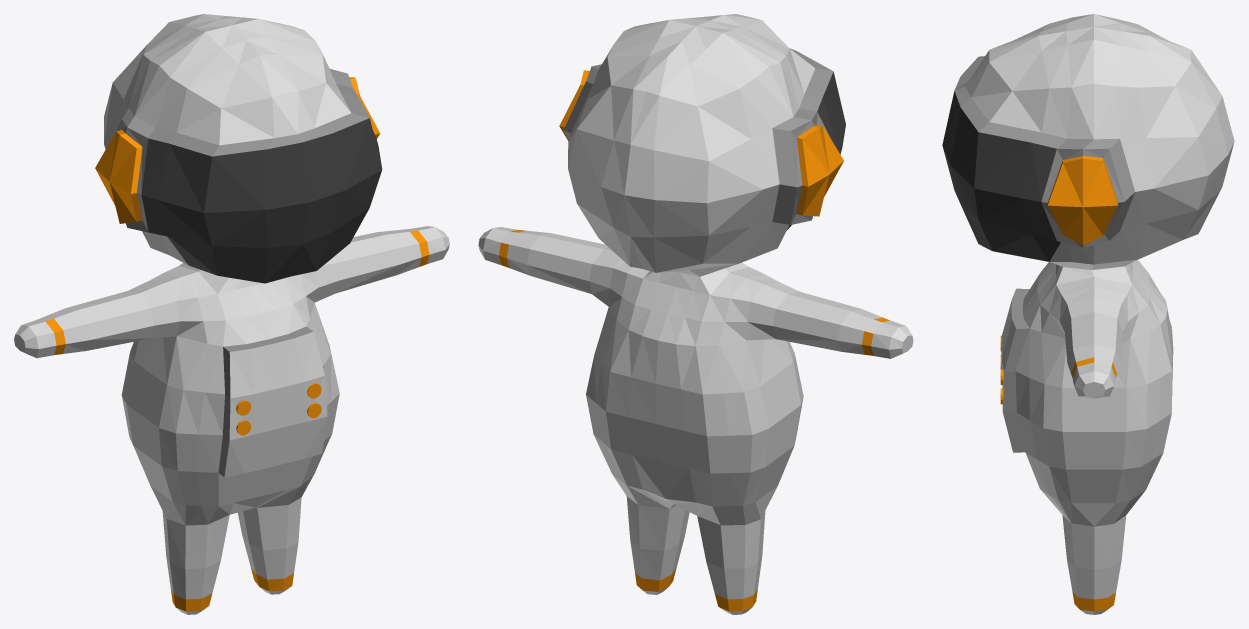
File: SJ-astronaut.dae
3 views of the same model, side by side, from view 1: azimuth 30°, elevation 25°; view 2: azimuth 150°, elevation 25°; view 3: azimuth 270°, elevation 25° (orthographic).
Visible parts, largest first — view 1: Cube; view 2: Cube; view 3: Cube.
Part boxes in pixels (x1,y1,x2,y2): Cube: [14, 14, 449, 614]; Cube: [478, 14, 913, 614]; Cube: [942, 14, 1234, 614].
Bounding box in the file's own units: 5.03 × 3.06 × 6.51.
